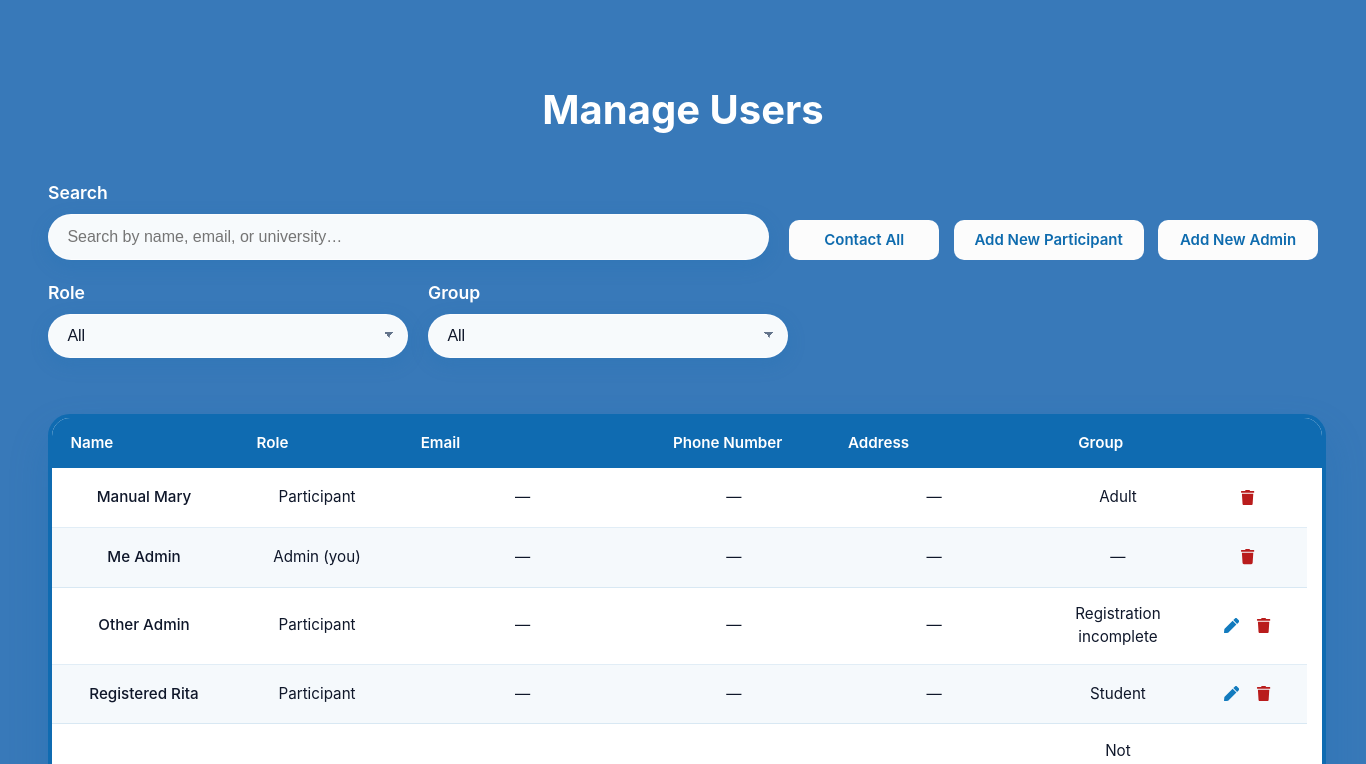
Test: Manage Users role select › warns that an unfinished registration's spot is released for any unregistered non-admin
Click the button named "Change role for Other Admin" at [1232, 625], box [1218,611,1246,639]
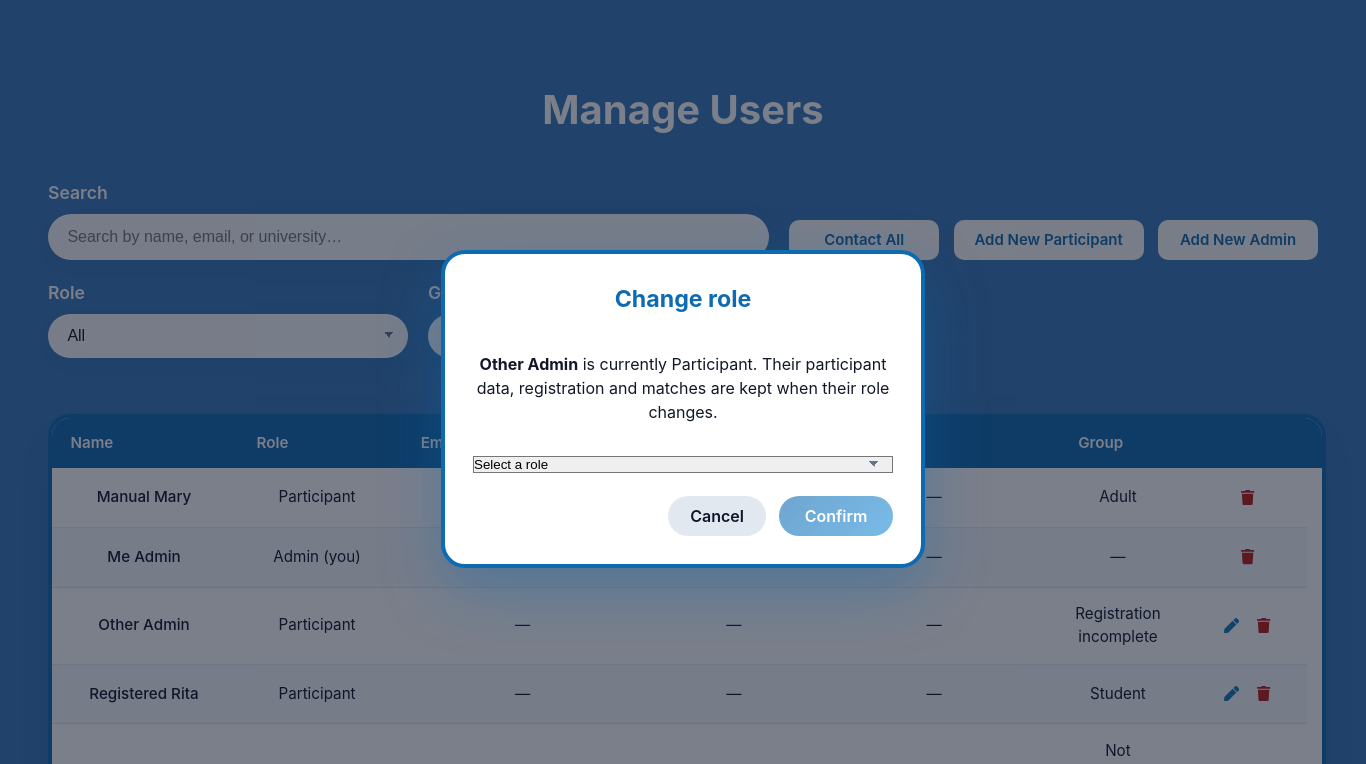
Select "Admin" in the dropdown named "New role" at [683, 465], box [473,456,893,473]
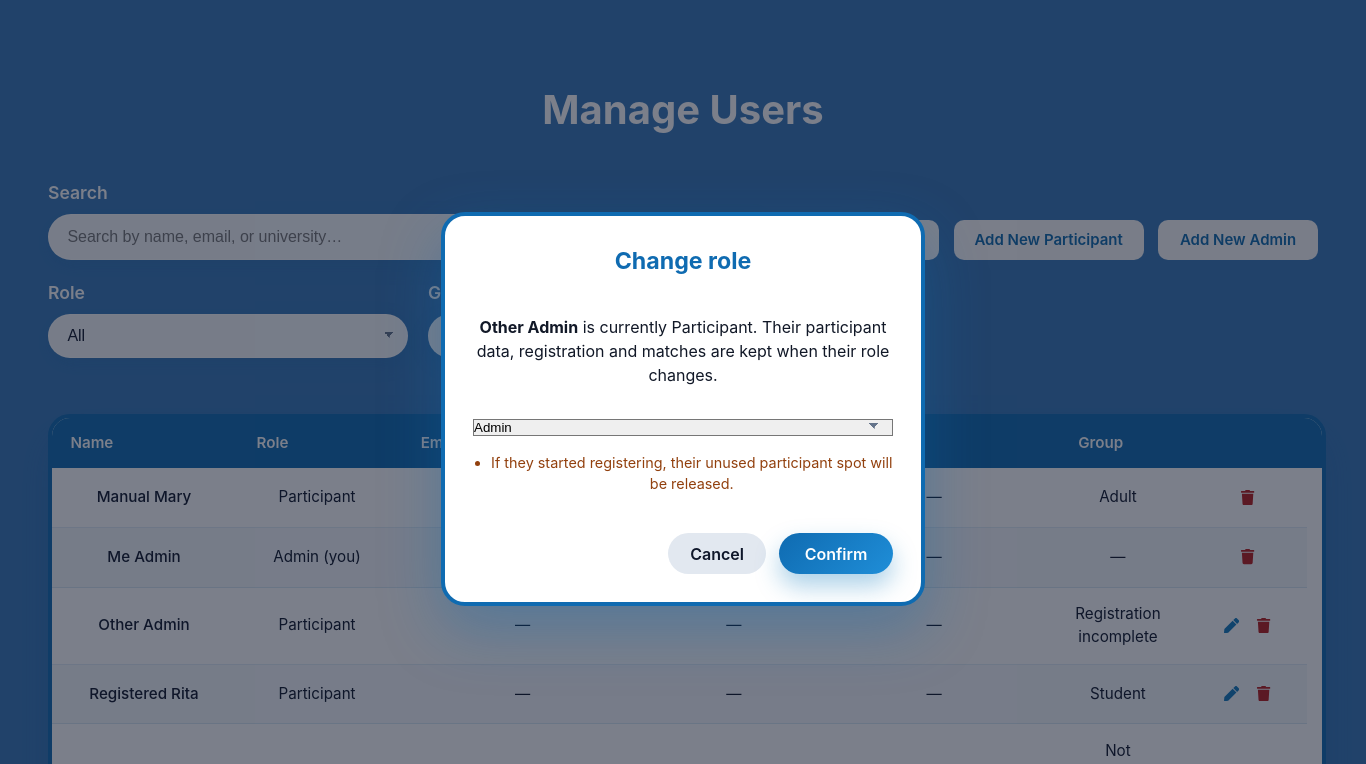
Expected: the list item "unused participant spot will be released" is shown, [491,454,892,492]
